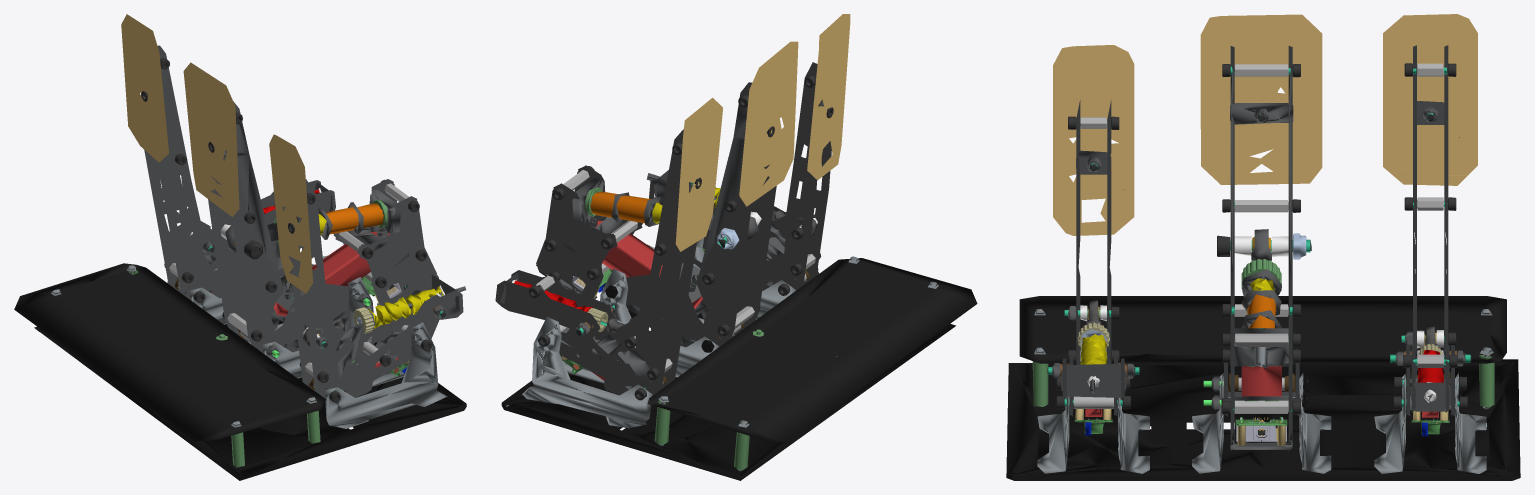
File: pedals.glb
3 views of the same model, side by side, from view 1: azimuth 30°, elevation 25°; view 2: azimuth 150°, elevation 25°; view 3: azimuth 270°, elevation 25° (orthographic). The views are drawn at different scales.
Visible parts, largest first — view 1: object 1, object 112, òîðìïëàñòèíà2:2, ñöåïïëàñòèíà2:2, êðåïëåíèå 2(ñîãí):1, ãàçïëàñòèíà2:2, ãàçïëàñòèíà1:2, òîðìïëàñòèíà2:1, òîðìïëàñòèíà5_2:2, object 80, ñöåïïëàñòèíà2:1, òîðìïëàñòèíà5:1 (+13 smaller); view 2: object 1, object 112, ñöåïïëàñòèíà2:1, òîðìïëàñòèíà2:1, êðåïëåíèå 1(ñîãí):2, ãàçïëàñòèíà2:1, òîðìïëàñòèíà5_2:1, ñöåïïëàñòèíà1:1, òîðìïëàñòèíà2:2, ñöåïïëàñòèíà7:2, ñöåïïëàñòèíà2:2, object 80 (+12 smaller); view 3: object 1, object 112, object 80, êðåïëåíèå 1(ñîãí):2, êðåïëåíèå 1(ñîãí):3, êðåïëåíèå 2(ñîãí):3, êðåïëåíèå 2(ñîãí):2, êðåïëåíèå 1(ñîãí):1, êðåïëåíèå 2(ñîãí):1, ñöåïïëàñòèíà2:1, object 167, òîðìïëàñòèíà2:1 (+15 smaller).
Part boxes in pixels (x1,y1,x2,y2): object 1: (14,263,466,480); object 112: (121,14,373,333); òîðìïëàñòèíà2:2: (225,101,283,349); ñöåïïëàñòèíà2:2: (157,45,217,295); êðåïëåíèå 2(ñîãí):1: (325,322,447,428); ãàçïëàñòèíà2:2: (299,179,363,394); ãàçïëàñòèíà1:2: (320,294,439,398); òîðìïëàñòèíà2:1: (208,154,248,341); òîðìïëàñòèíà5_2:2: (357,196,436,305); object 80: (203,150,466,393); ñöåïïëàñòèíà2:1: (140,94,210,292); òîðìïëàñòèíà5:1: (359,197,425,288); object 1: (501,258,977,480); object 112: (587,14,850,331); ñöåïïëàñòèíà2:1: (614,129,689,392); òîðìïëàñòèíà2:1: (697,82,751,343); êðåïëåíèå 1(ñîãí):2: (522,317,652,428); ãàçïëàñòèíà2:1: (766,62,819,287); òîðìïëàñòèíà5_2:1: (536,184,616,298); ñöåïïëàñòèíà1:1: (547,318,655,395); òîðìïëàñòèíà2:2: (734,164,776,334); ñöåïïëàñòèíà7:2: (495,280,600,336); ñöåïïëàñòèíà2:2: (629,191,696,388); object 80: (500,101,823,389); object 1: (1006,296,1520,480); object 112: (1053,14,1477,354); object 80: (1061,101,1450,449); êðåïëåíèå 1(ñîãí):2: (1455,372,1486,473); êðåïëåíèå 1(ñîãí):3: (1299,372,1331,473); êðåïëåíèå 2(ñîãí):3: (1192,373,1223,473); êðåïëåíèå 2(ñîãí):2: (1374,373,1405,473); êðåïëåíèå 1(ñîãí):1: (1118,397,1149,473); êðåïëåíèå 2(ñîãí):1: (1037,396,1069,473); ñöåïïëàñòèíà2:1: (1444,45,1448,378); object 167: (1217,235,1311,441); òîðìïëàñòèíà2:1: (1288,46,1292,330).
Size of the model in its own units: 0.3384 by 0.3246 by 0.3799.
